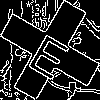E: (25, 25, 77, 81)
